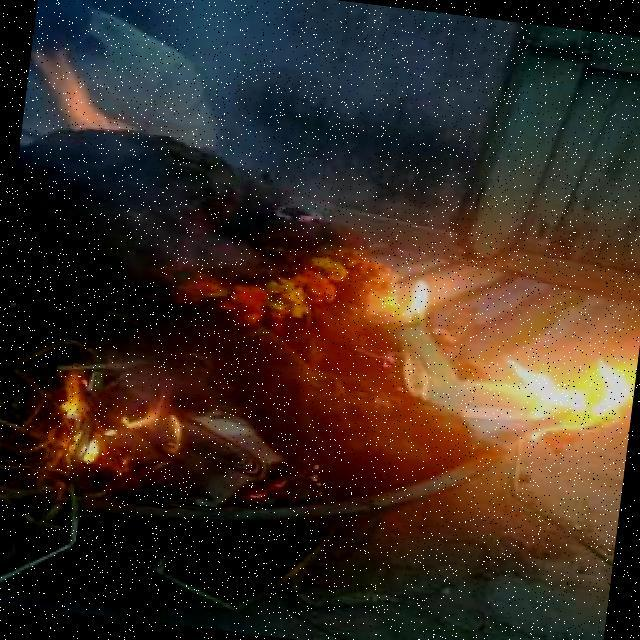Fire: (464, 337, 634, 450), (41, 370, 199, 479), (32, 48, 129, 136), (386, 265, 439, 332)
